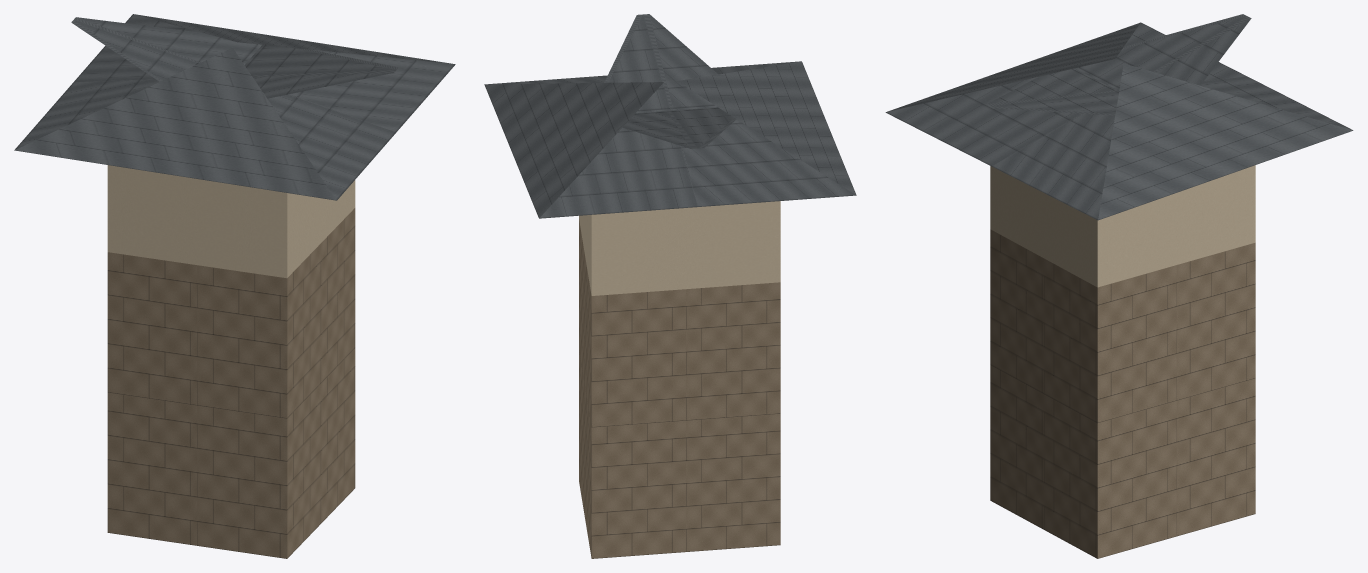
Rendered from bld_c33_45_237.gltf.
3 renders of one model, left to right at view 1: azimuth 30°, elevation 25°; view 2: azimuth 150°, elevation 25°; view 3: azimuth 270°, elevation 25°, orthographic. The views are drawn at different scales.
Visible parts, largest first — view 1: bld_c33_45_237; view 2: bld_c33_45_237; view 3: bld_c33_45_237.
Boxes of the visible parts, x1=… form: bld_c33_45_237: x1=14, y1=14, x2=455, y2=558; bld_c33_45_237: x1=484, y1=14, x2=856, y2=558; bld_c33_45_237: x1=885, y1=14, x2=1353, y2=558.
Size of the model in its own units: 7.04 by 7.4 by 7.04.
3 materials, 3 textured.
